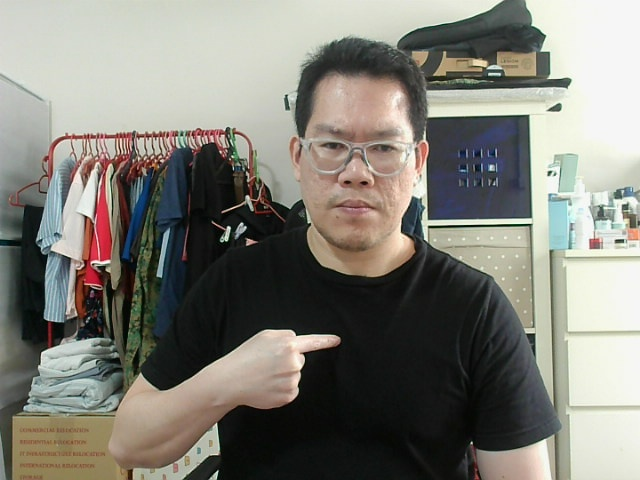I: (230, 333, 337, 395)
